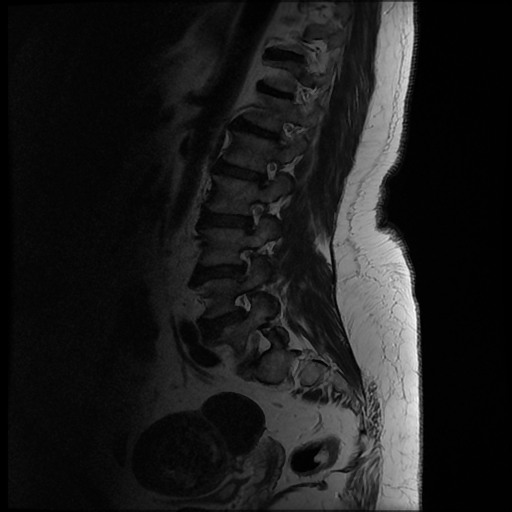LFS0: (233, 193, 272, 240), (222, 284, 263, 325), (249, 150, 283, 193)
LFS1: (225, 241, 267, 284)
